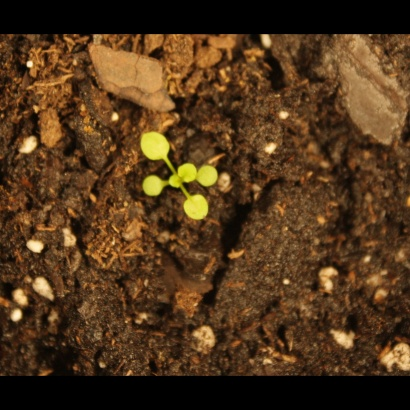leaf: (136, 129, 177, 164), (179, 193, 215, 222), (138, 174, 166, 199), (196, 164, 219, 187), (177, 162, 200, 185)
